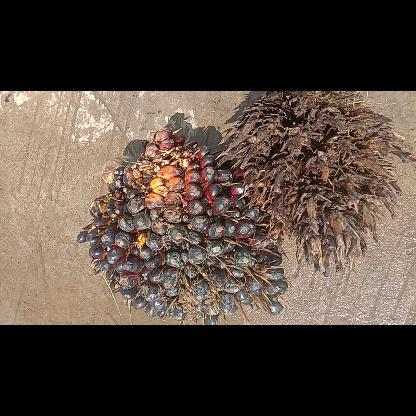Janjang kosong: (215, 91, 415, 277)
TBS mentah: (76, 126, 294, 324)
